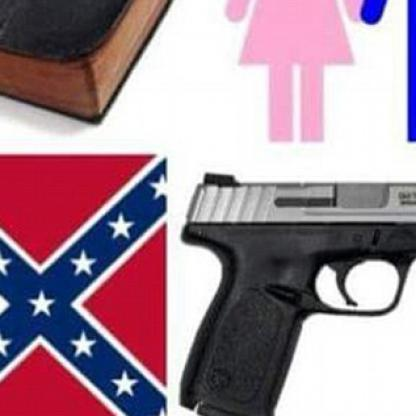gun: (176, 167, 415, 415)
